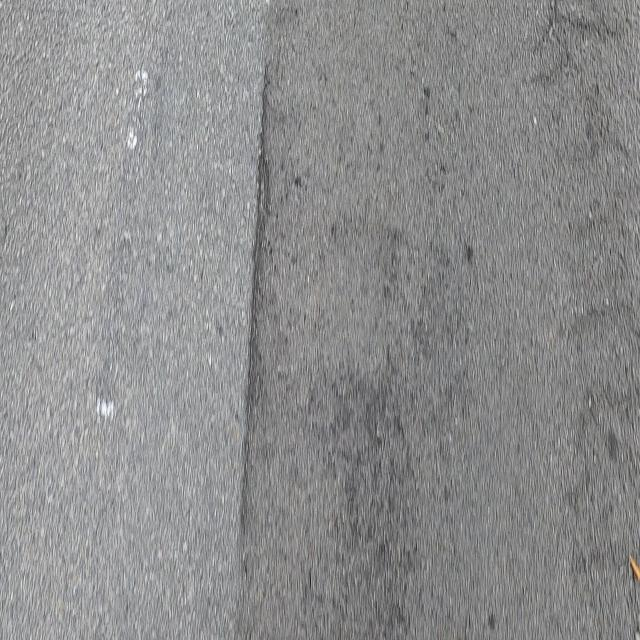Retak-Memanjang: (235, 66, 271, 552)
